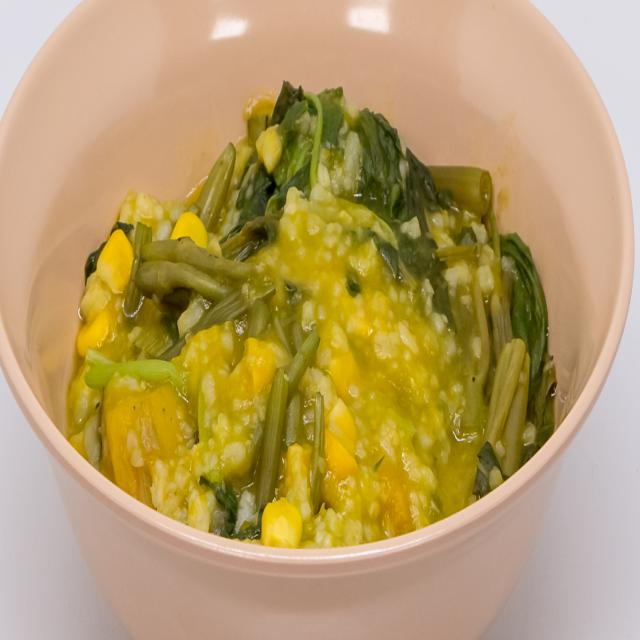Bubur-Manado: (67, 42, 572, 574)
